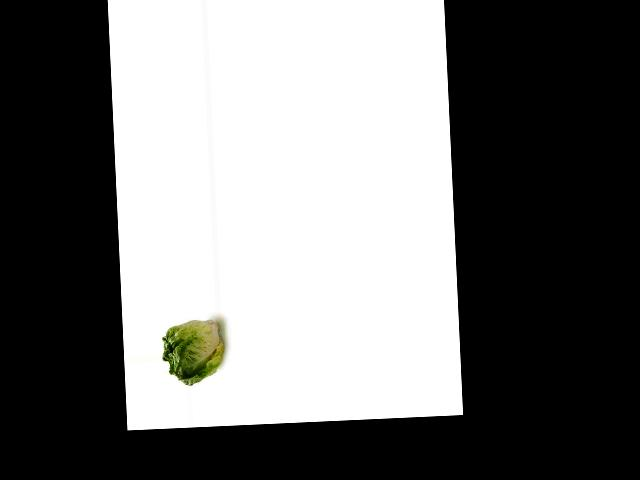lettuce: (158, 314, 224, 390)
